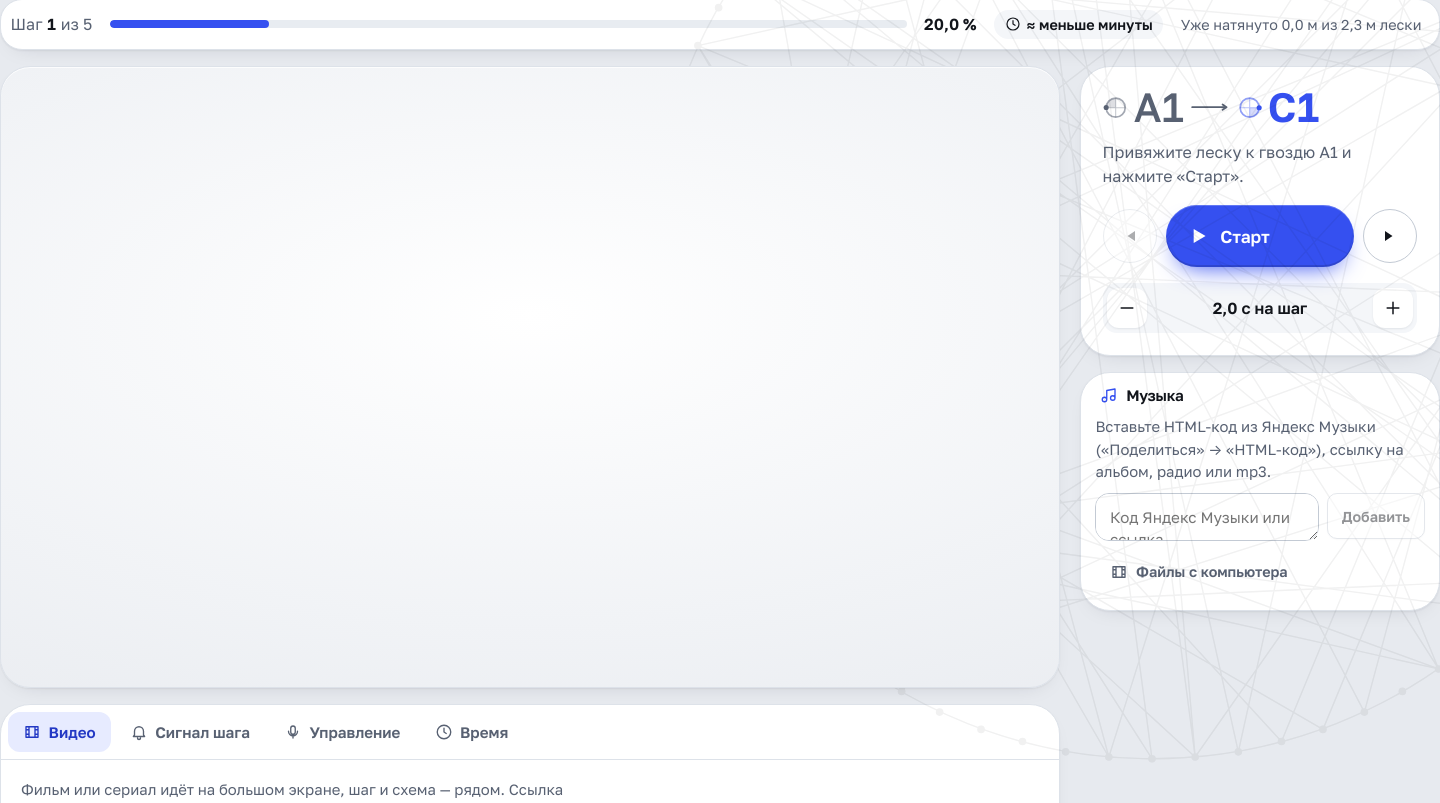
Test case: WeavePlayer › переход к шагу по номеру с ограничением диапазона
# Вкладка «Управление»
Click the tab "Управление".
click(342, 732)  # box left=269, top=712, right=416, bottom=752
(page scrolled)
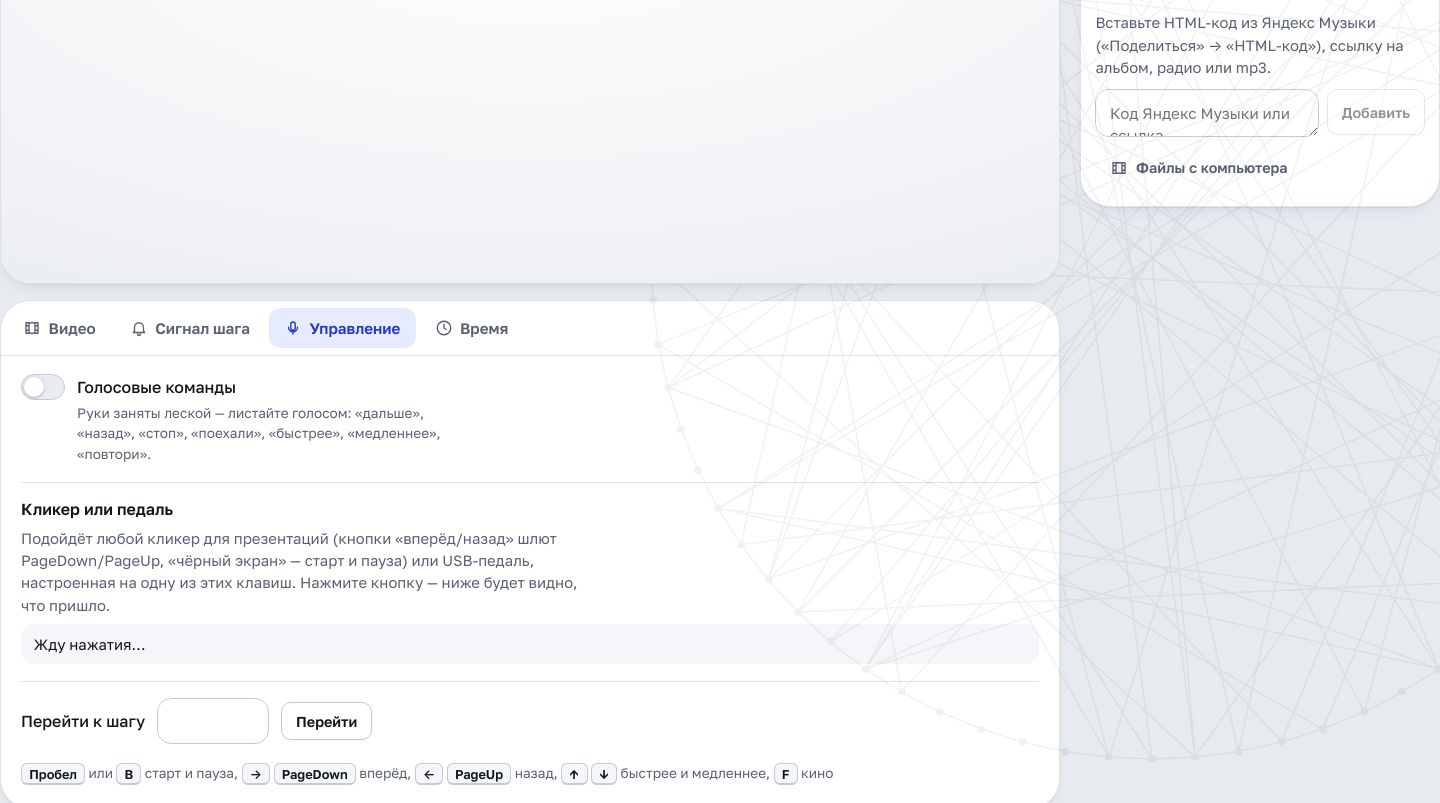
# Вводим 99 — больше, чем шагов
Type "99" into the number field labelled "Перейти к шагу".
click(213, 722); type("99")  # box left=157, top=698, right=269, bottom=744
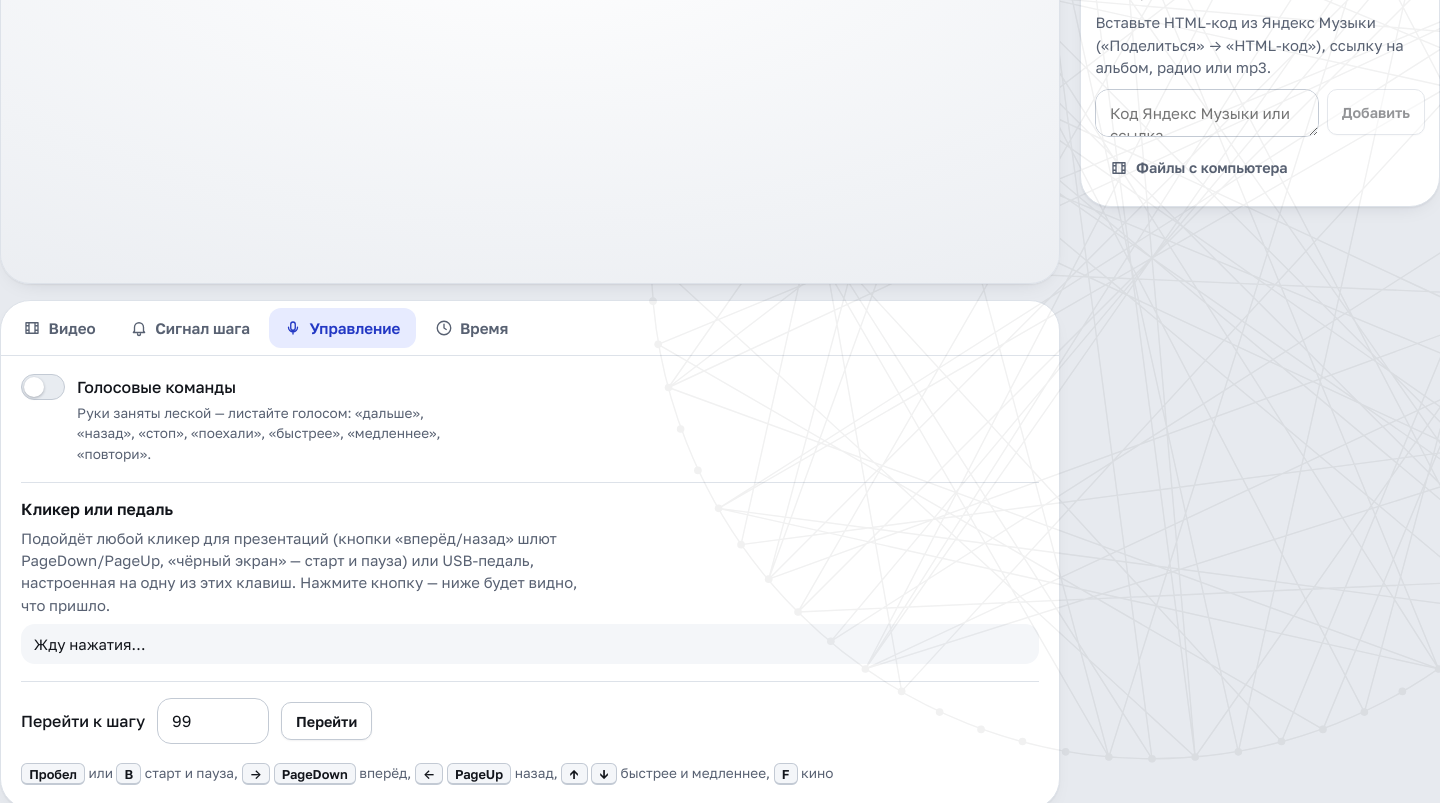
# «Перейти»
Click the button "Перейти".
click(327, 722)  # box left=281, top=702, right=372, bottom=740
(page scrolled)
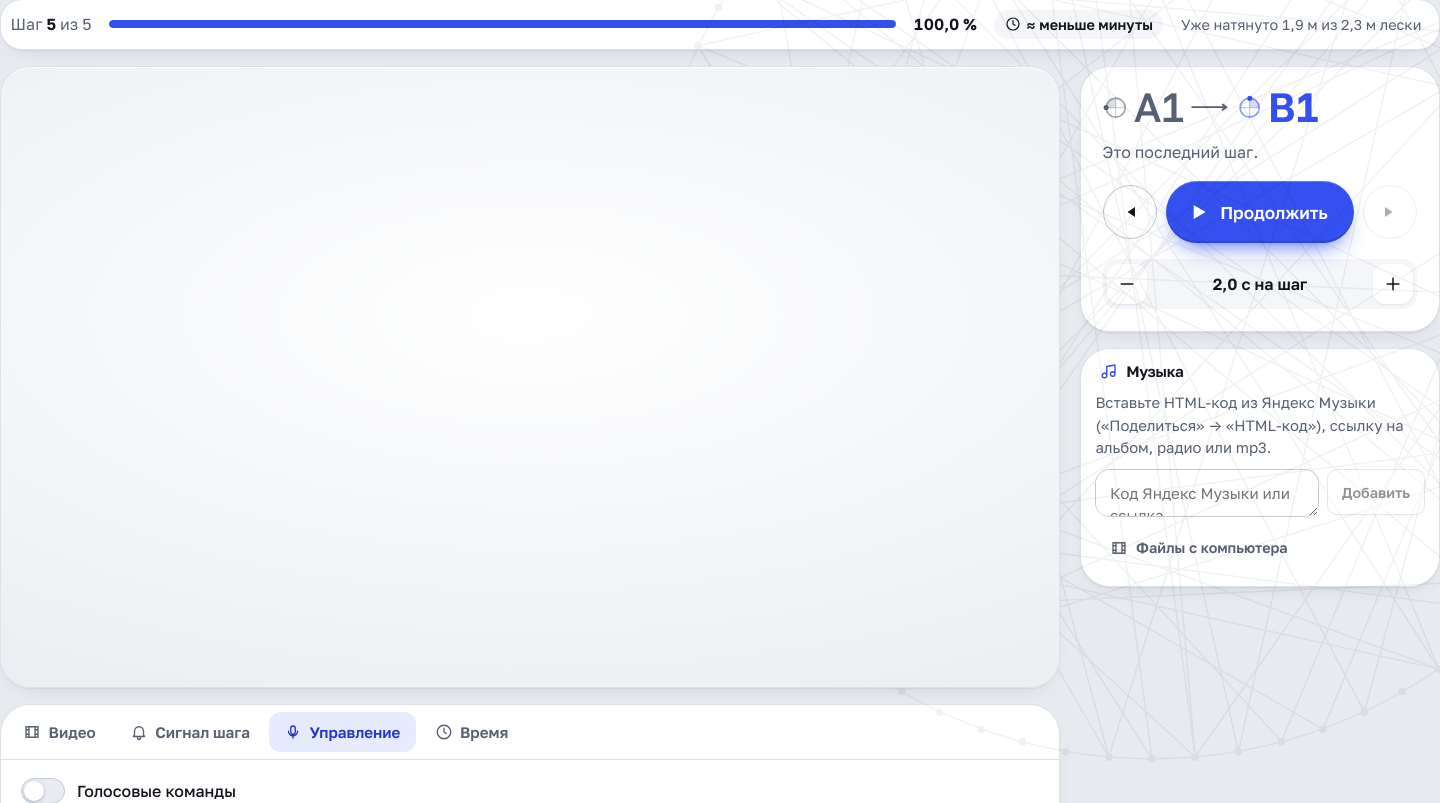
Expected: the element with test id "step-counter" reads "Шаг 5 из 5", left=11, top=12, right=92, bottom=36
